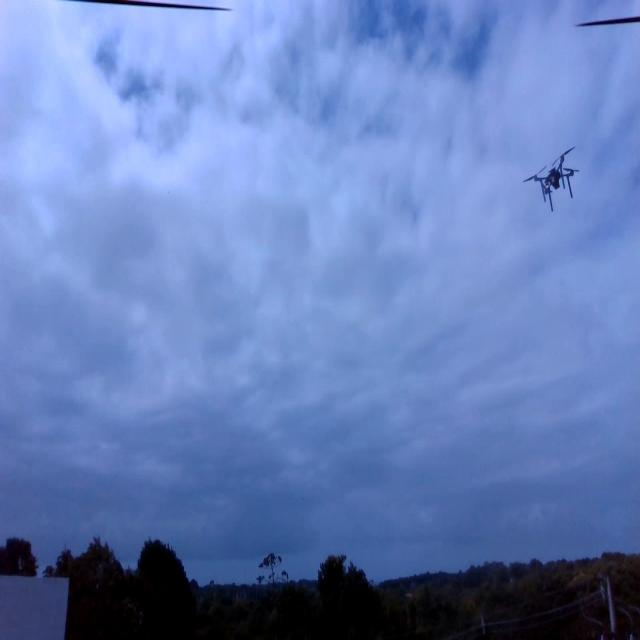-uav-: (518, 137, 584, 220)
